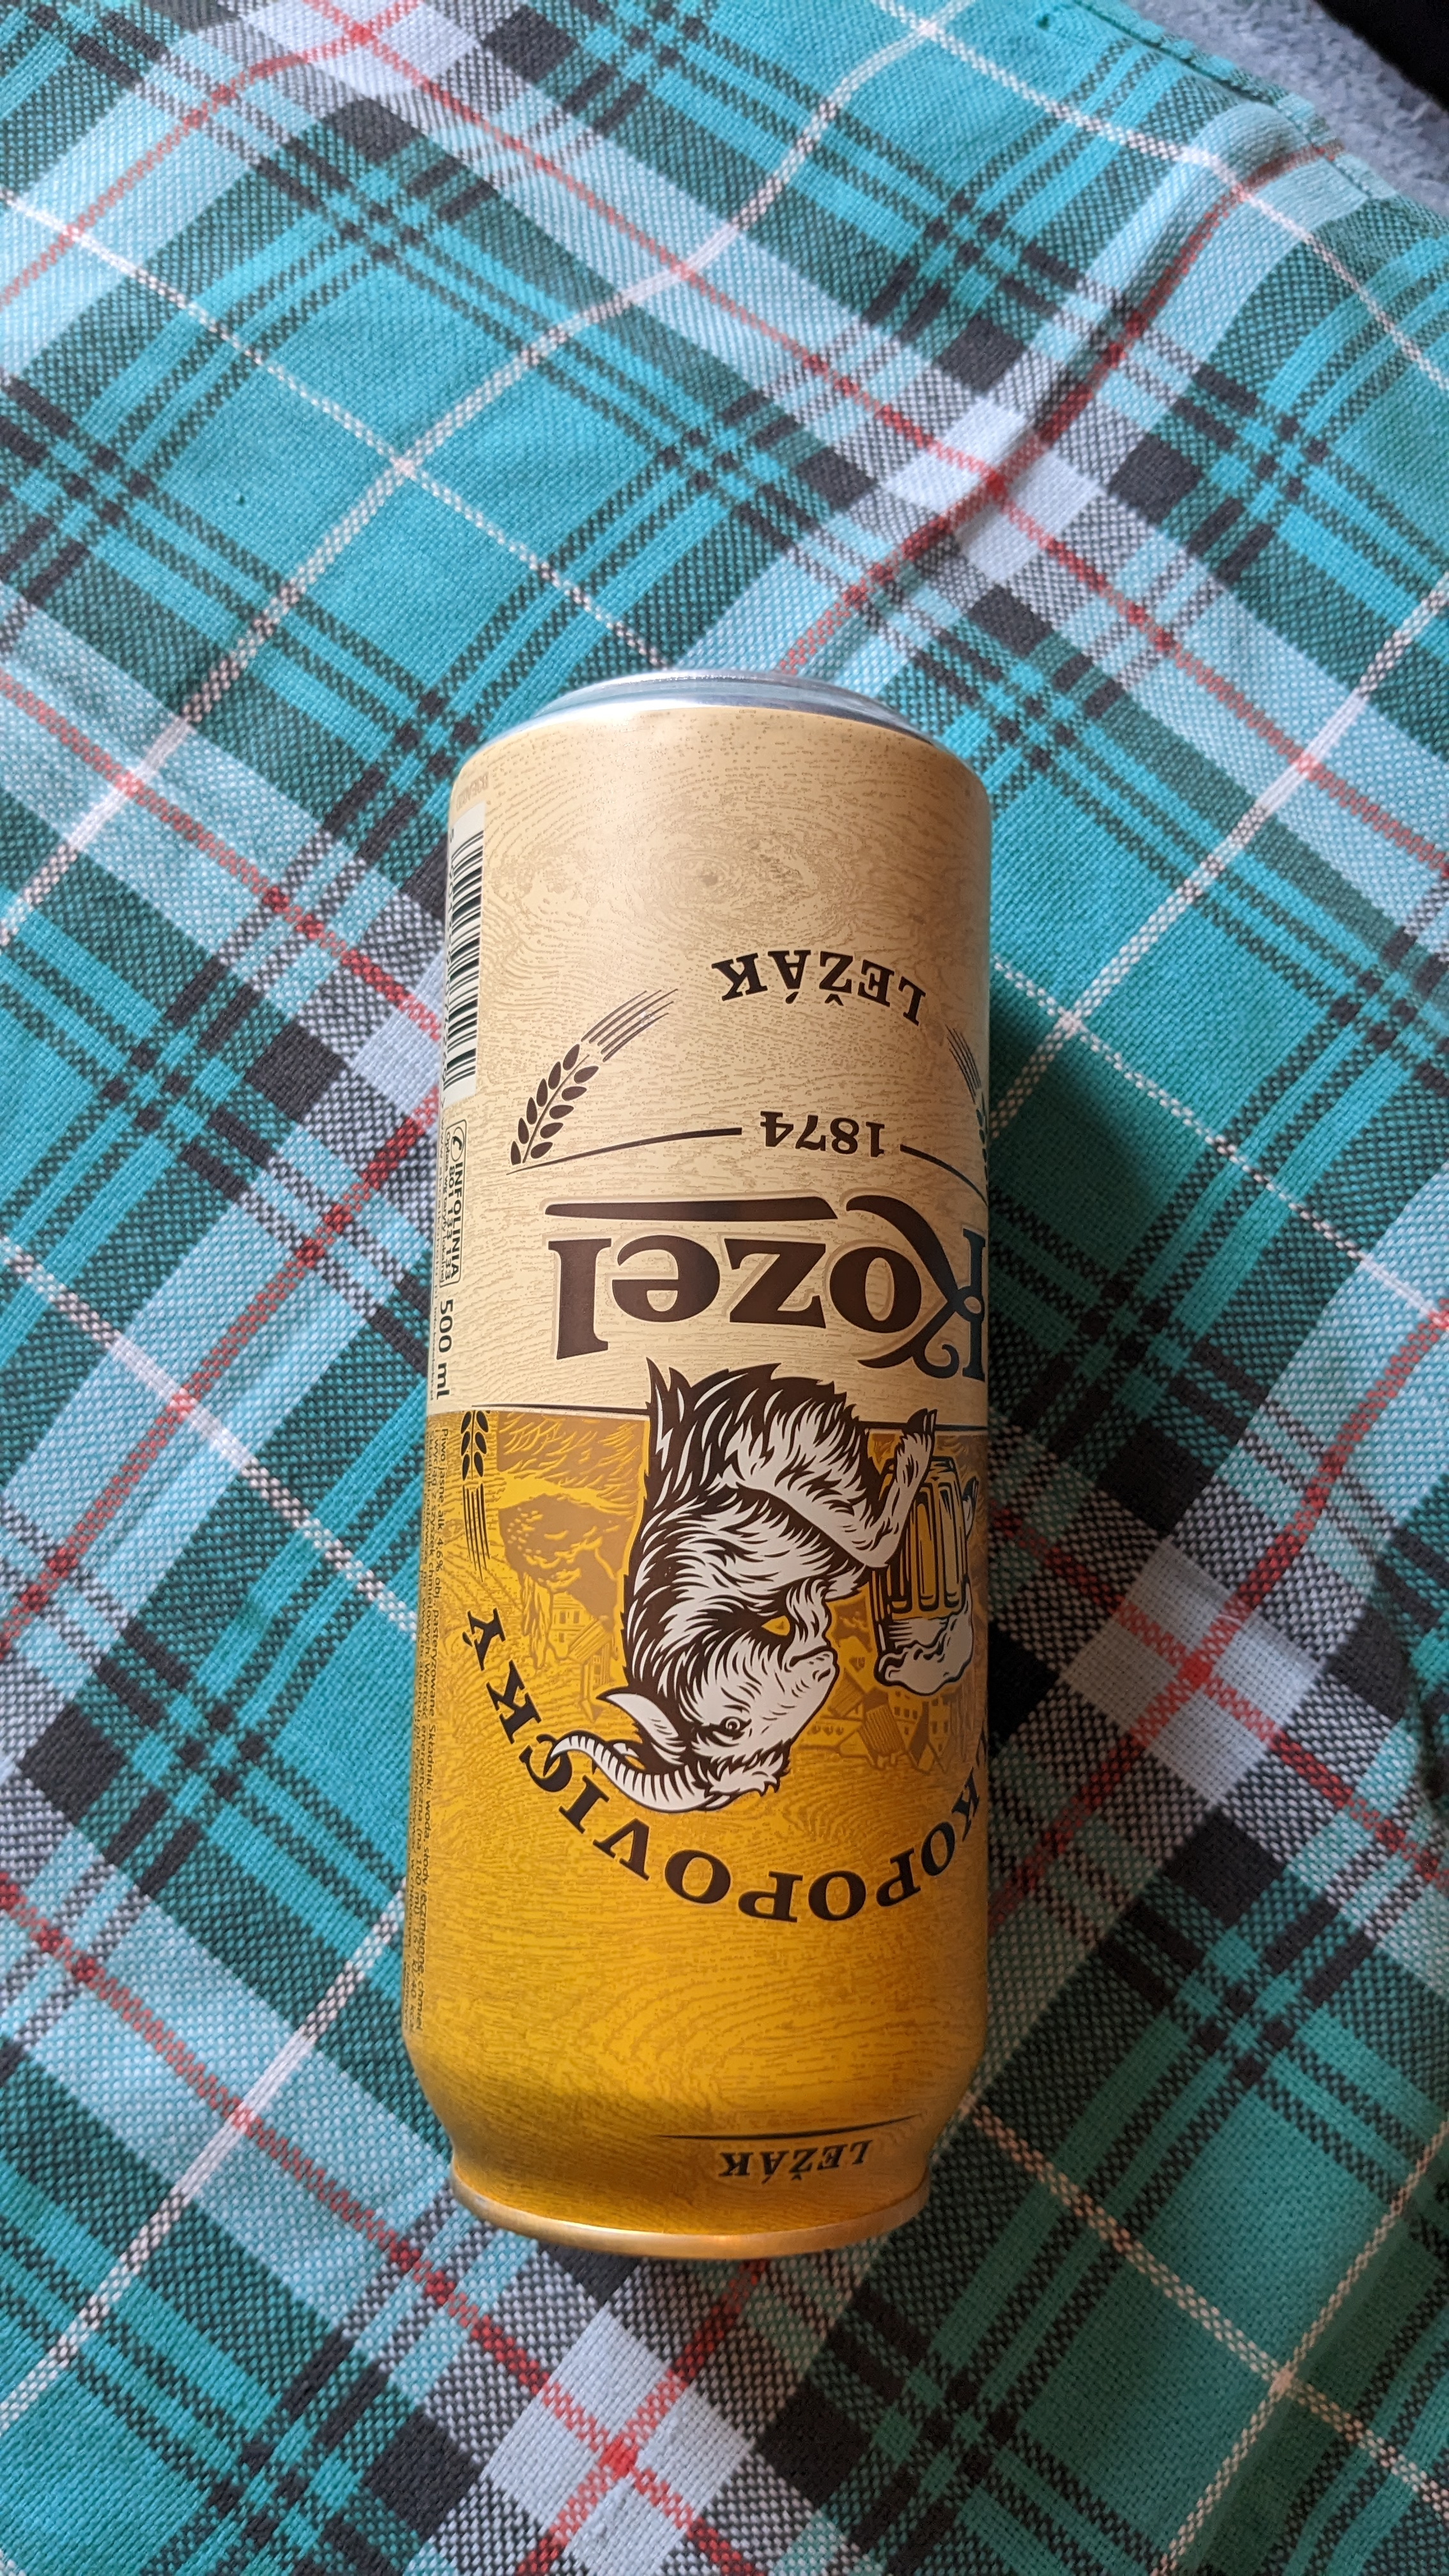kozel: (405, 660, 996, 2291)
